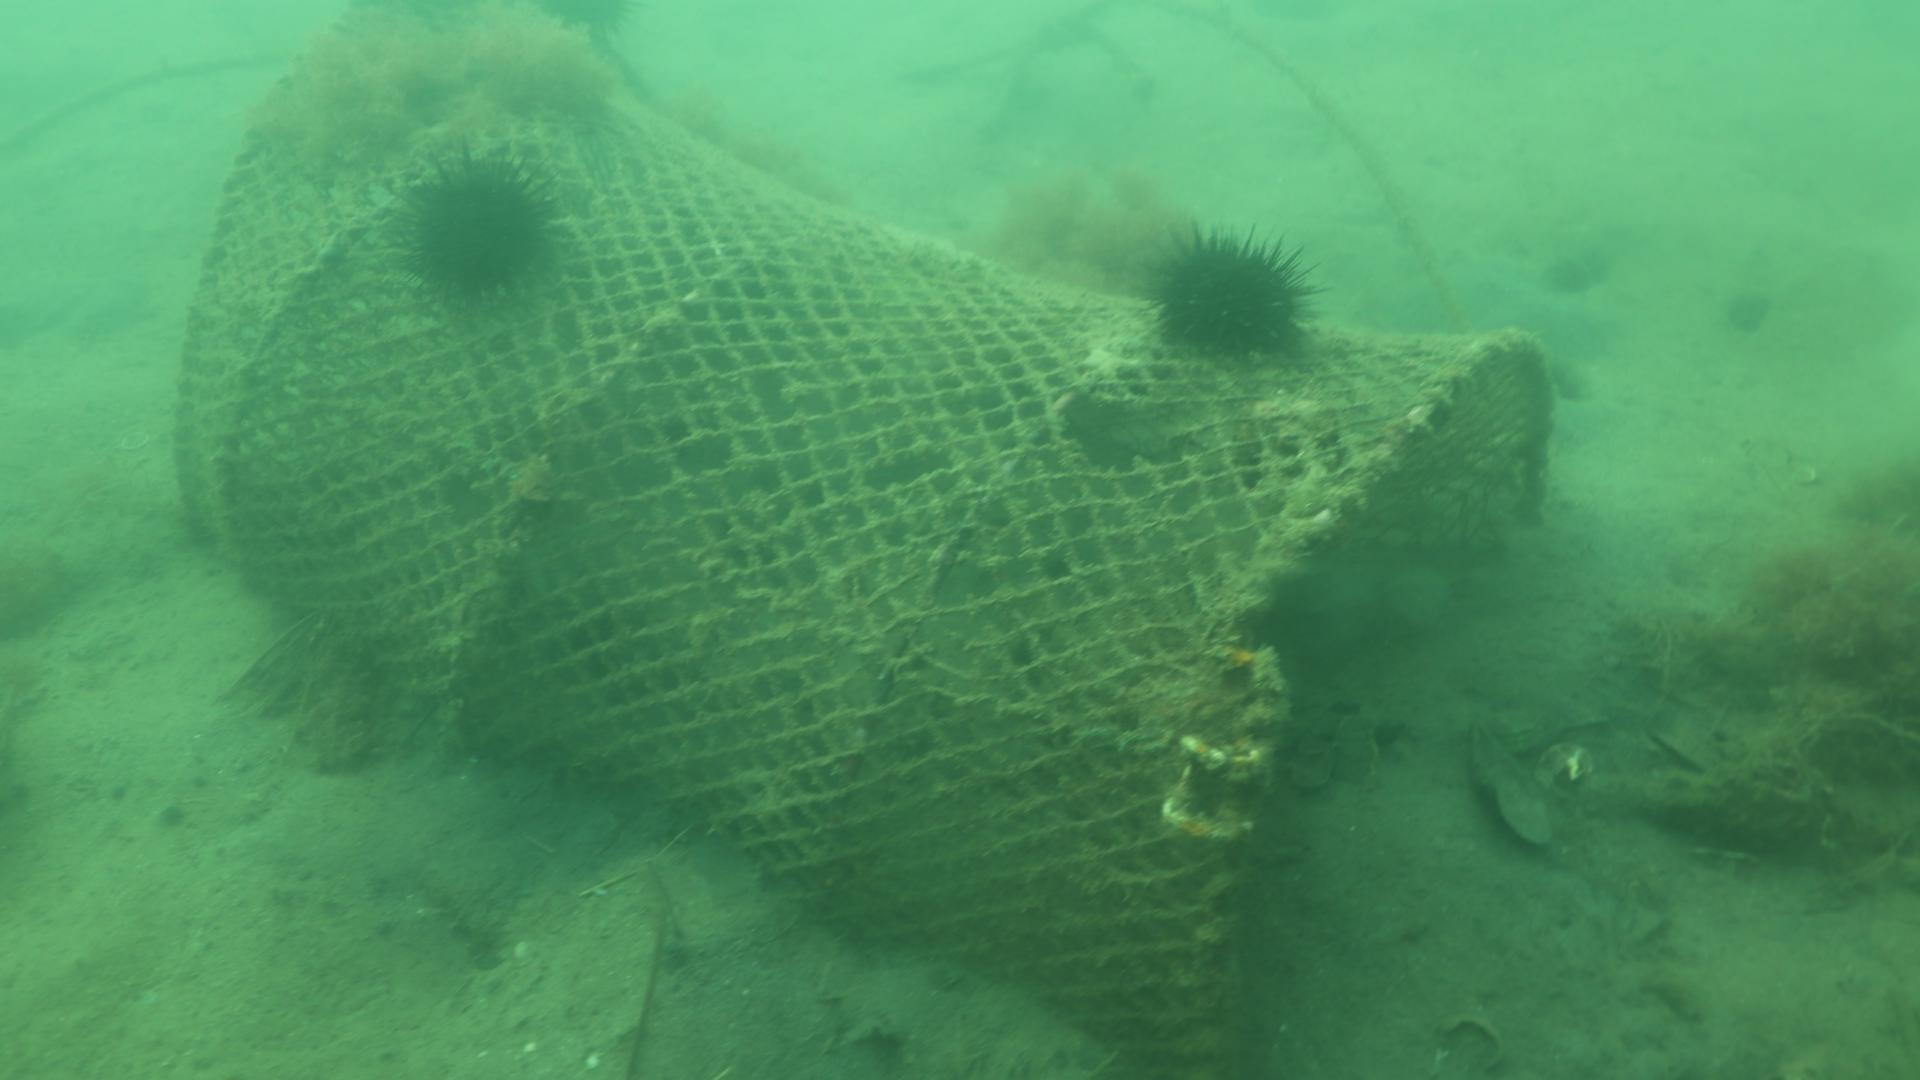spring fish trap: (169, 0, 1557, 1080)
